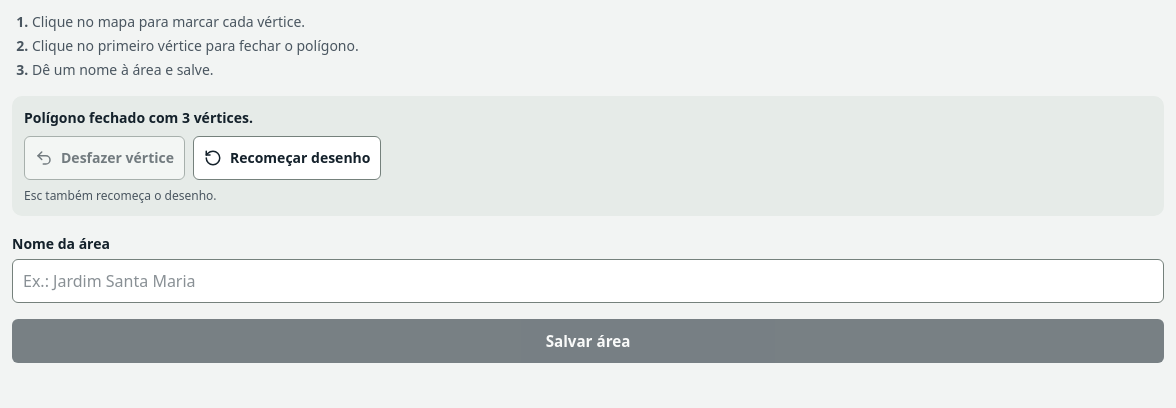
Test: FormArea › mostra a recusa do servidor junto do desenho
This screenshot has width=1176, height=408.
In the field labelled "Nome da área": (588, 281) [12,259,1164,303], type "Cópia"
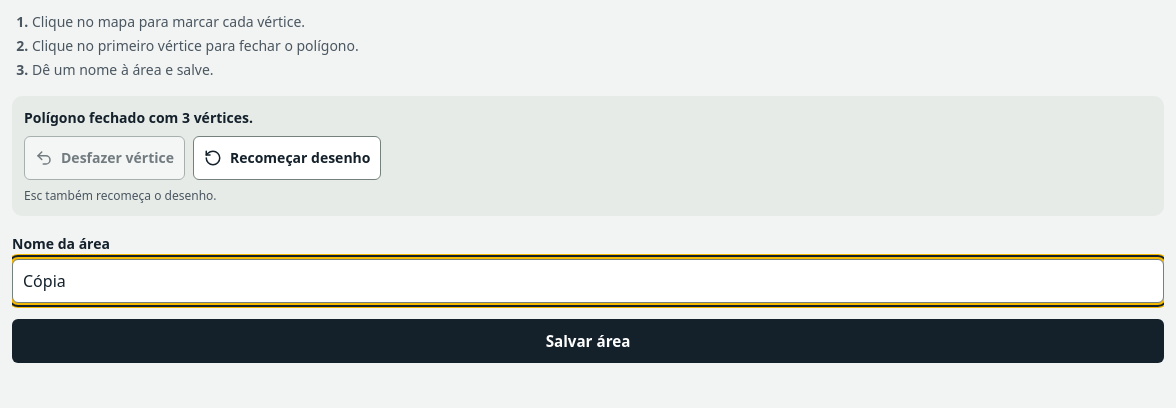
Click the button "Salvar área": (588, 341) [12,319,1164,363]
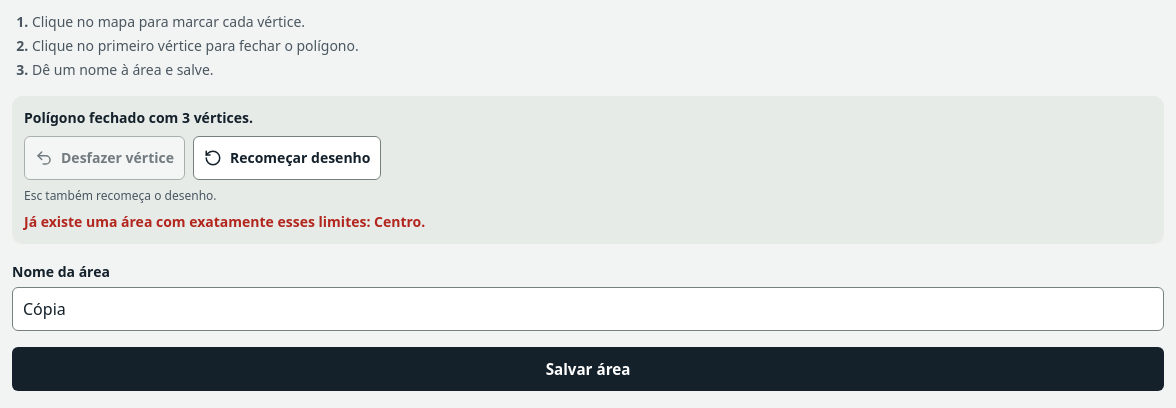
Expected: the message shows "Já existe uma área com exatamente esses limites", [24,212,425,231]
